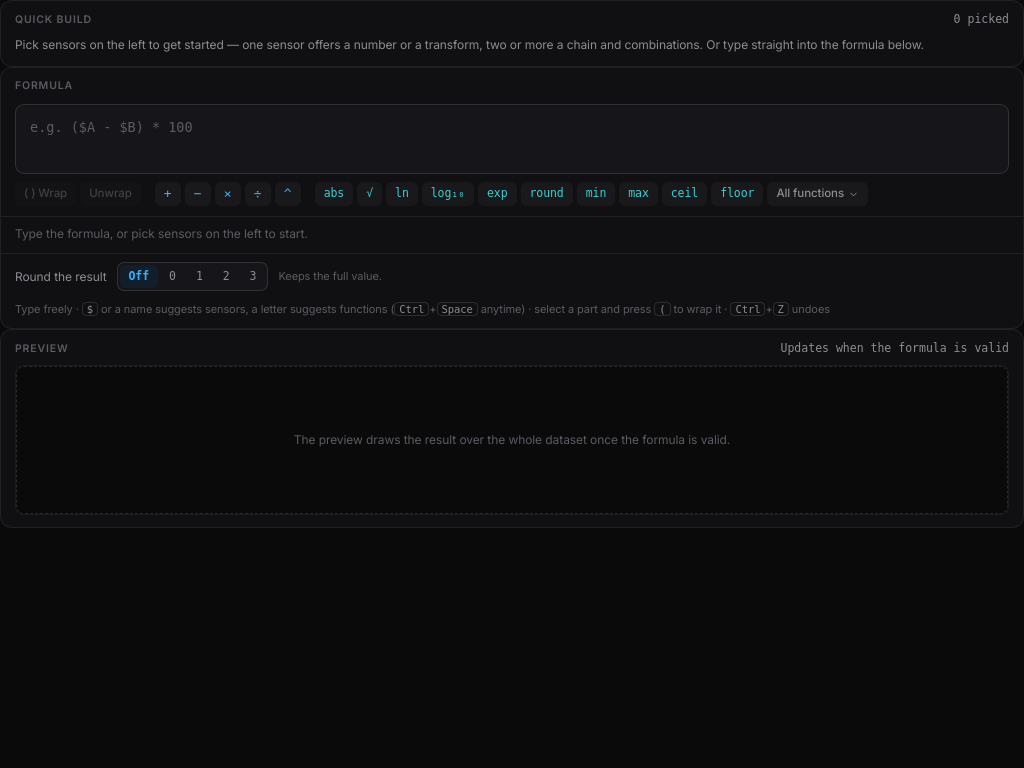
Test: the check line and the report › a valid formula shows the preview stats with the amber missing-row count
In the text box named "Formula": (512, 139) [16,105,1008,173], type "$A + $B"
Wait 225 ms
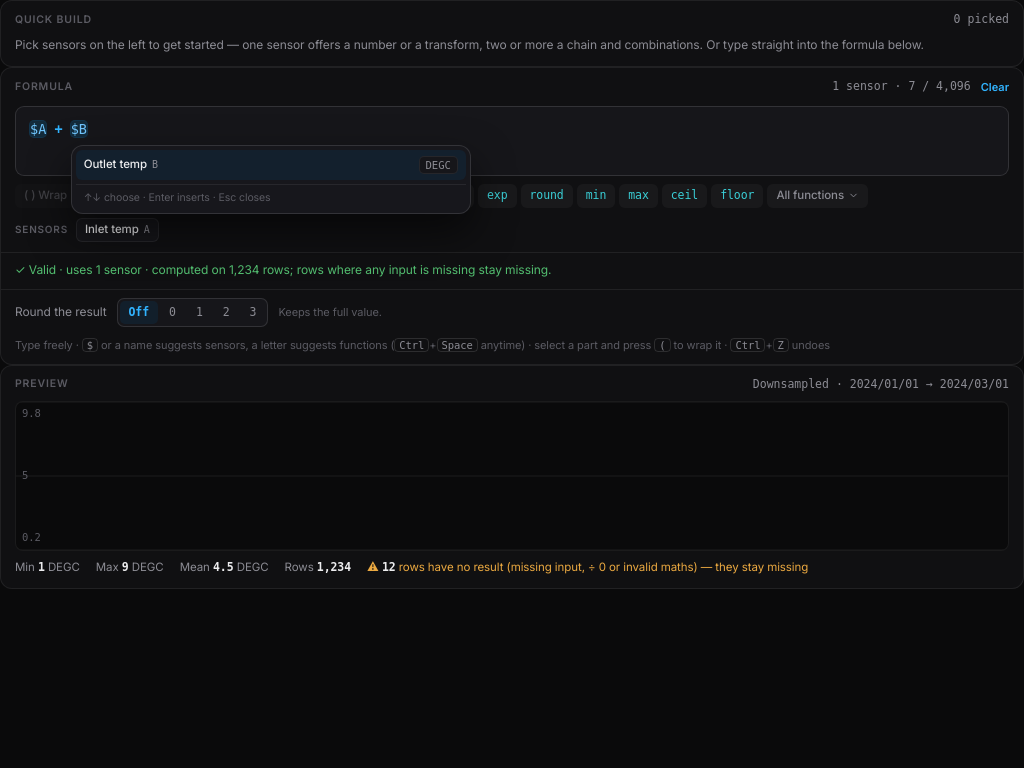
Check: the element with test id "preview-stats" shows "Min 1 DEGC", box [15,560,808,574]
Check: the element with test id "preview-stats" shows "Rows 1,234", box [15,560,808,574]
Check: the text "12 rows have no result" is shown, box [367,559,808,576]
